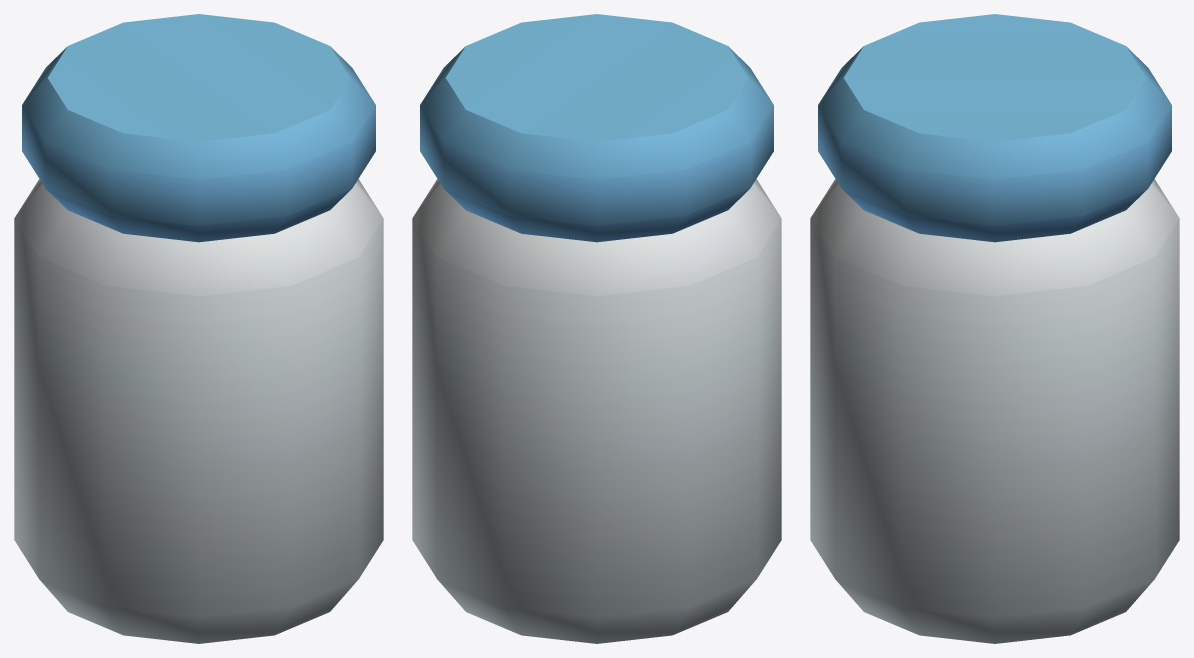
The model's file is kaykit-restaurant-bits-jar-a-large.glb.
The picture shows the model from 3 angles, left to right: view 1: azimuth 30°, elevation 25°; view 2: azimuth 150°, elevation 25°; view 3: azimuth 270°, elevation 25°; orthographic projection.
Visible parts, largest first — view 1: jar_A_large; view 2: jar_A_large; view 3: jar_A_large.
Part boxes in pixels (left/top/right/bottom): jar_A_large: left=14, top=14, right=383, bottom=643; jar_A_large: left=412, top=14, right=781, bottom=643; jar_A_large: left=810, top=14, right=1179, bottom=643.
Size of the model in its own units: 0.5 by 0.75 by 0.5.
Materials: 1 (1 with a texture image).
